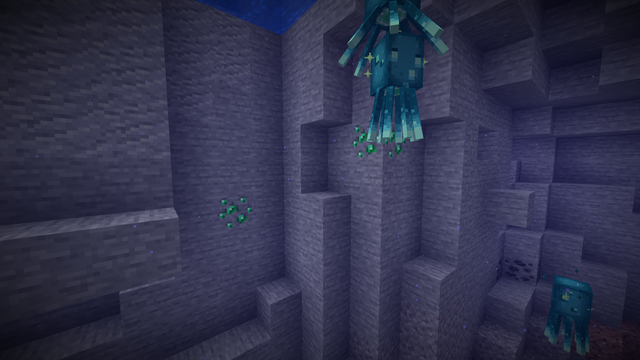coal: (495, 256, 542, 285)
emerald: (354, 126, 402, 160), (218, 196, 254, 229)
